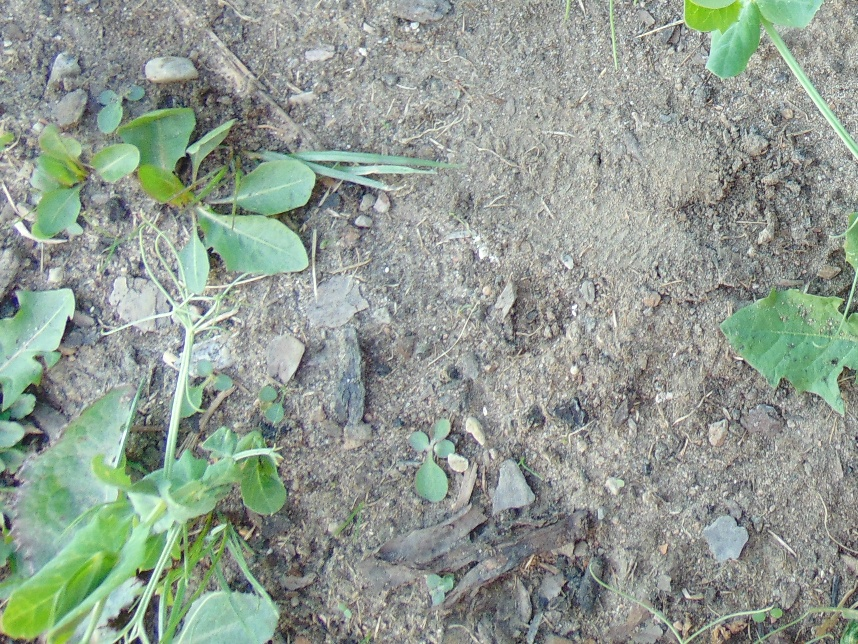crop: (94, 268, 290, 605), (1, 429, 287, 644), (676, 1, 858, 272)
weed: (85, 101, 316, 287), (1, 285, 137, 562), (714, 290, 858, 413), (28, 118, 141, 246), (408, 414, 459, 504), (98, 75, 143, 139)
